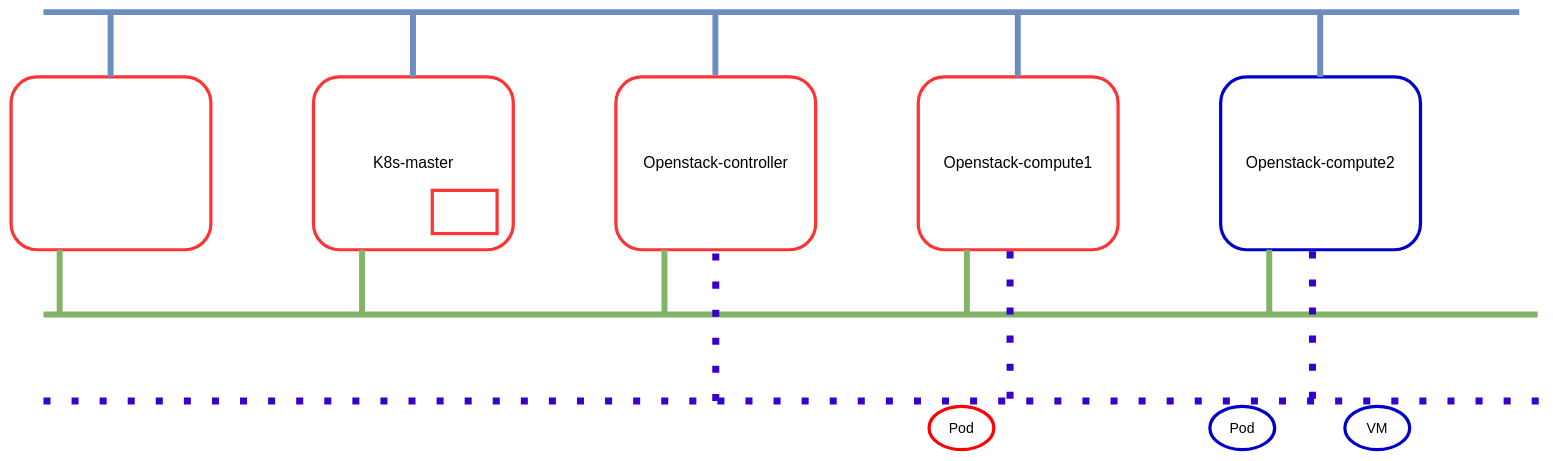
Some shapes in this 1553 by 461 pixel diagram are drawn without their labels. The box of each missing label's shape, as (x1, y1, x2, y2) in pixels:
K8s-worker: (9, 75, 212, 251)
Virtual - kubelet: (430, 188, 498, 235)
